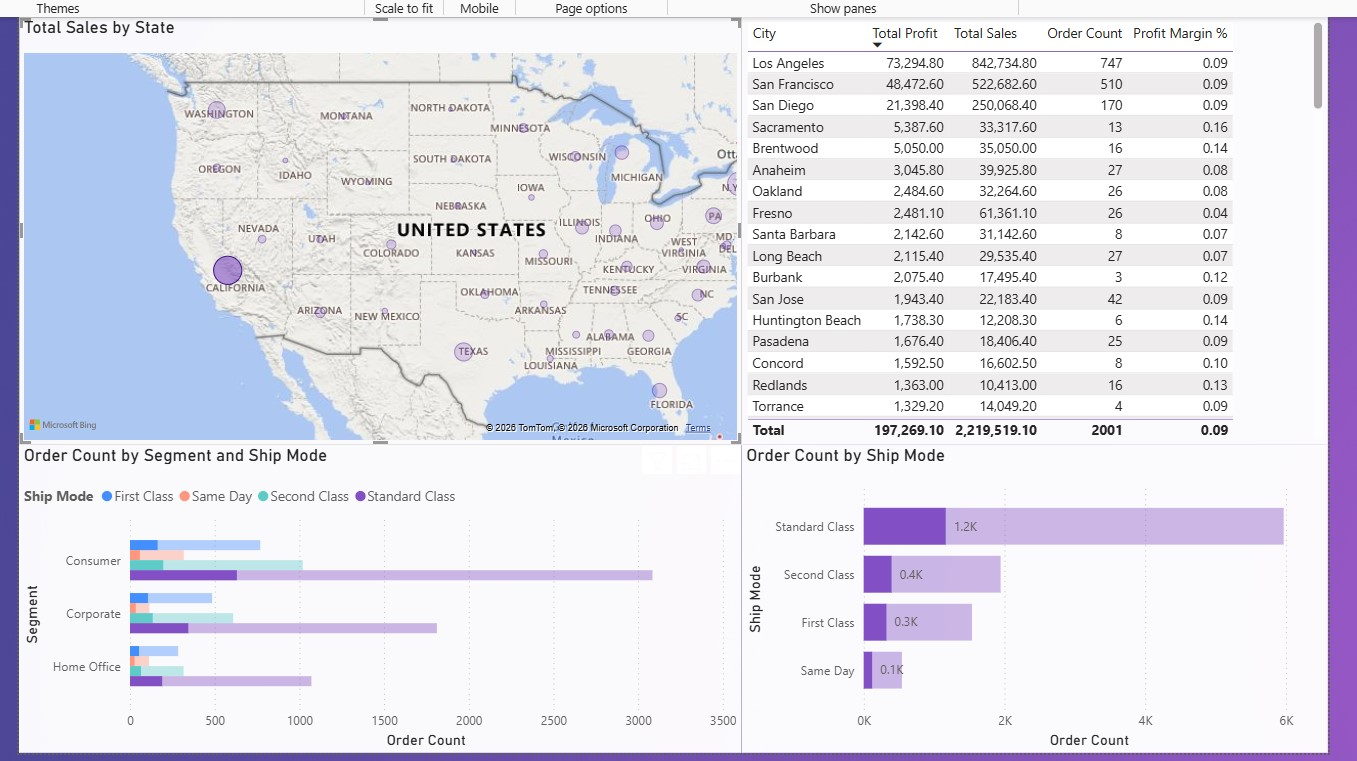

The dashboard page shown, as its layout file describes it:
{"tool":"powerbi","page":{"name":"Fulfillment_Geography","canvas":[1280,720],"ordinal":2},"visuals":[{"type":"map","title":"Total Sales by State","fields":{"Category":["Orders.State"],"Size":["Orders.Total Sales"]},"box":[0,0,706.8,418.2],"z":0},{"type":"clusteredBarChart","fields":{"Category":["Orders.Ship Mode"],"Y":["Orders.Order Count"]},"box":[706.7,418.5,573.6,301.9],"z":1000},{"type":"tableEx","fields":{"Values":["Orders.City","Orders.Total Profit","Orders.Total Sales","Orders.Order Count","Orders.Profit Margin %"]},"box":[706.7,0,573.6,418.5],"z":2000},{"type":"clusteredBarChart","fields":{"Category":["Orders.Segment"],"Y":["Orders.Order Count"],"Series":["Orders.Ship Mode"]},"box":[0,418.5,706.7,301.9],"z":2001}]}

Visuals, with their boxes on the page's 1280x720 design canvas (x1, y1, x2, y2). These are canvas units, not pixel positions in the 1357x761 screenshot, which may show the page scaled, cropped or inside an application window:
"Total Sales by State" map: [0, 0, 707, 418]
clusteredBarChart - Orders.Ship Mode x Orders.Order Count: [707, 418, 1280, 720]
tableEx - Orders.City x Orders.Total Profit: [707, 0, 1280, 418]
clusteredBarChart - Orders.Segment x Orders.Order Count: [0, 418, 707, 720]
